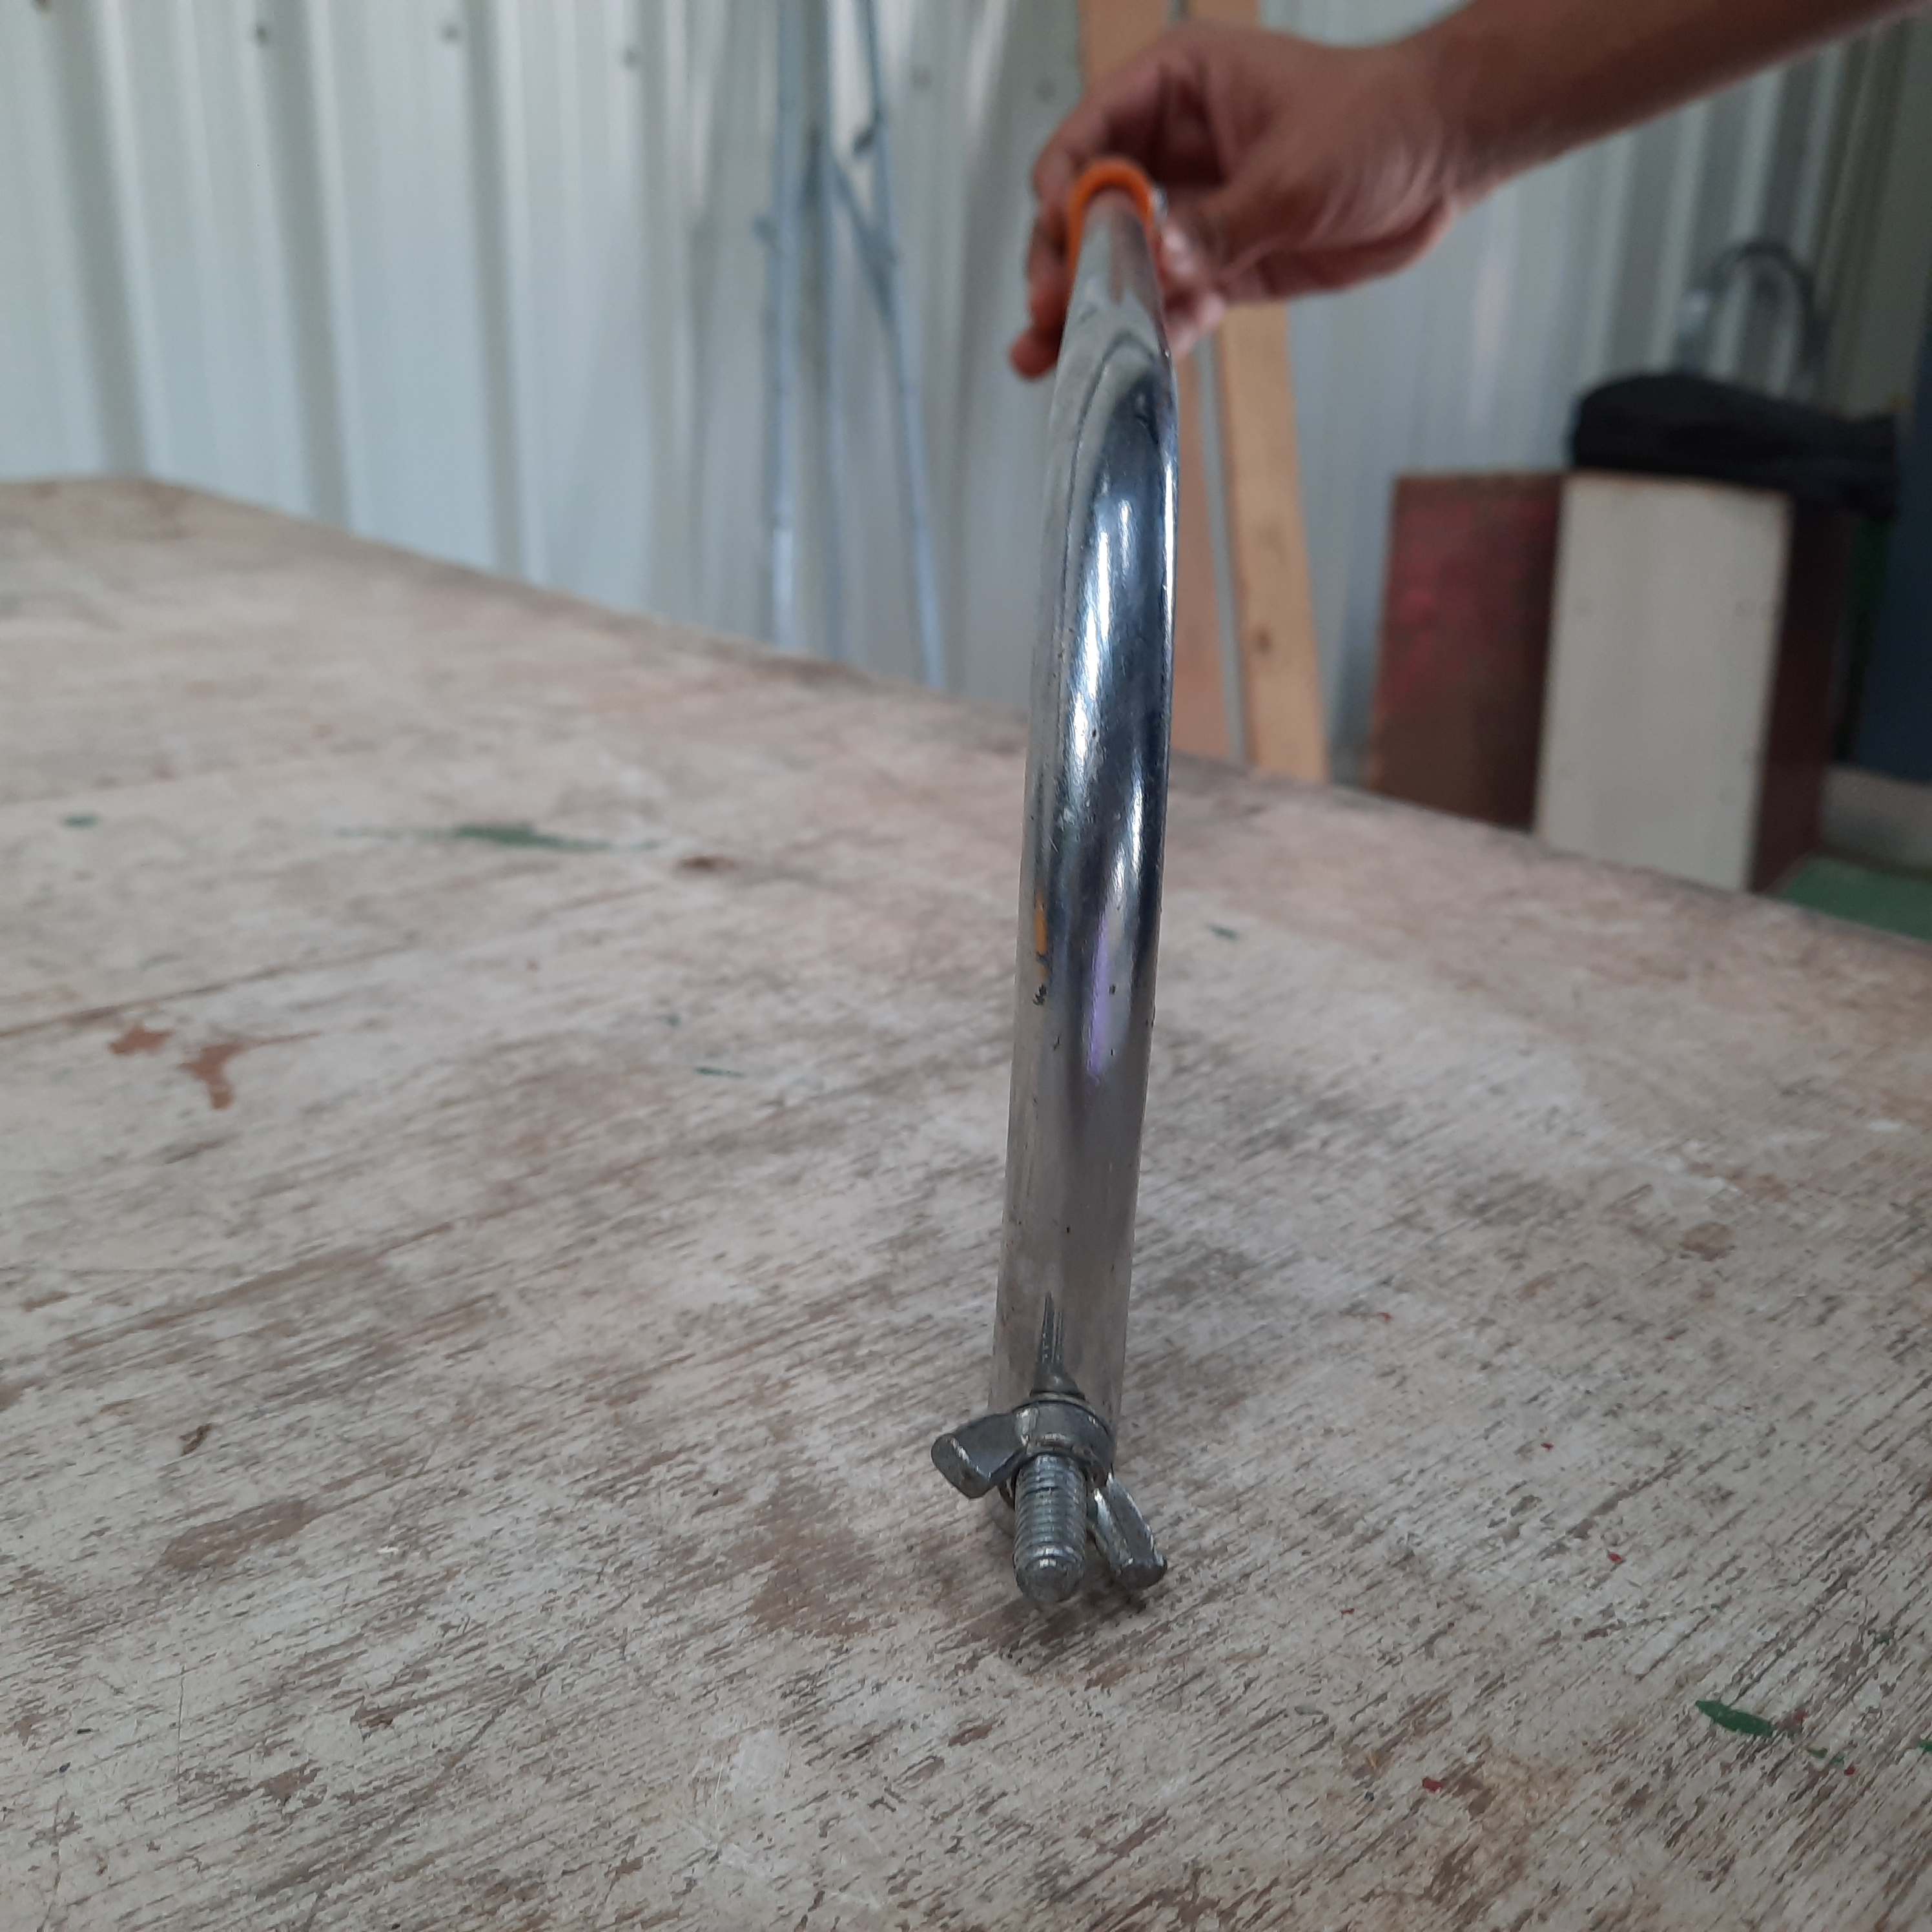Hexaframe: (897, 165, 1392, 1647)
